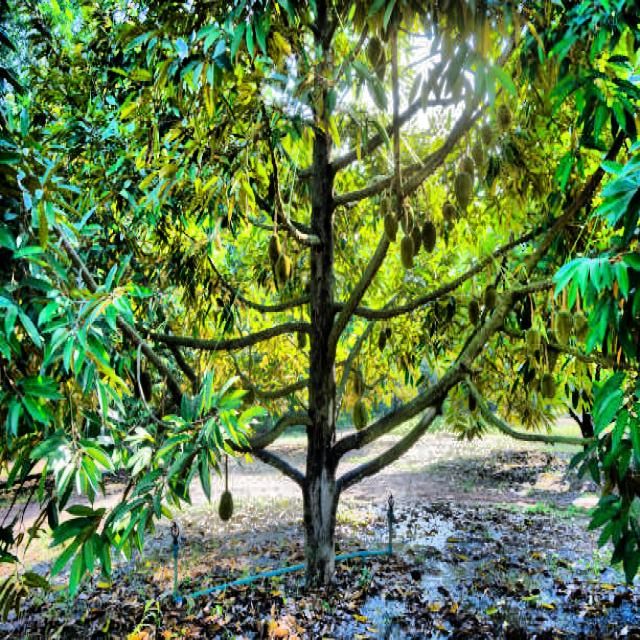arvore: (295, 65, 354, 594)
